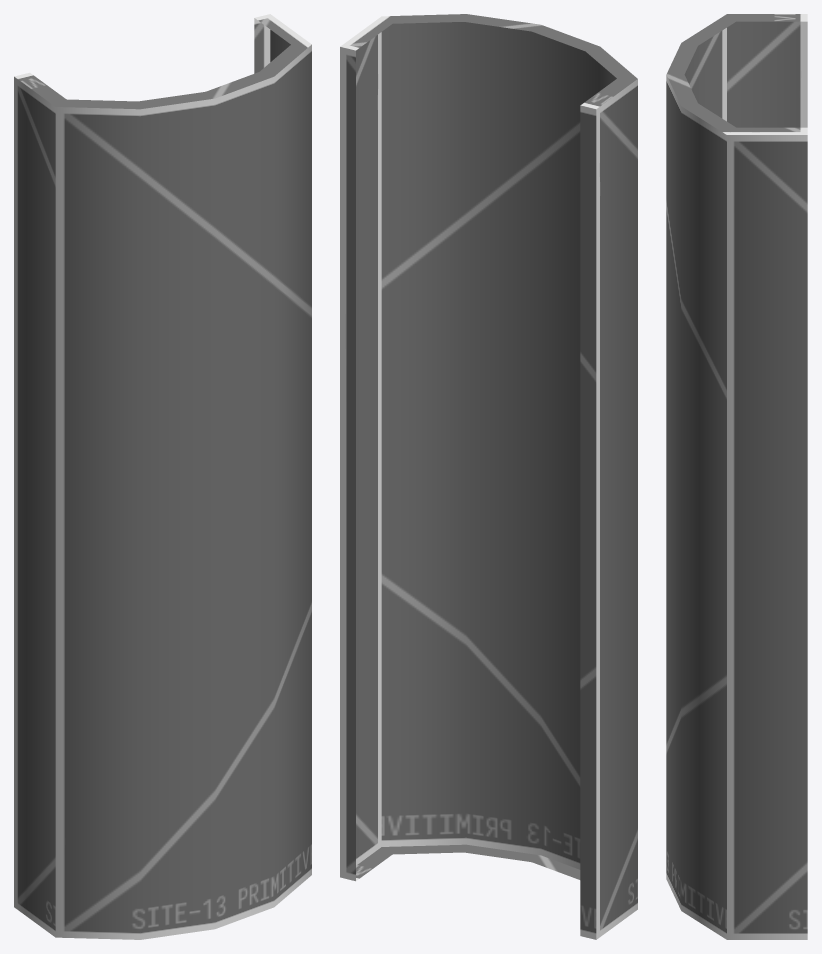
File: FSS-S2-Pump.obj
3 renders of one model, left to right at view 1: azimuth 30°, elevation 25°; view 2: azimuth 150°, elevation 25°; view 3: azimuth 270°, elevation 25°, orthographic. The views are drawn at different scales.
Visible parts, largest first — view 1: FSS-S2-Pump; view 2: FSS-S2-Pump; view 3: FSS-S2-Pump.
Part boxes in pixels (left/top/right/bottom): FSS-S2-Pump: left=14, top=14, right=311, bottom=939; FSS-S2-Pump: left=340, top=14, right=637, bottom=939; FSS-S2-Pump: left=666, top=14, right=807, bottom=939.
Size of the model in its own units: 0.8071 by 2.5 by 0.3974.
